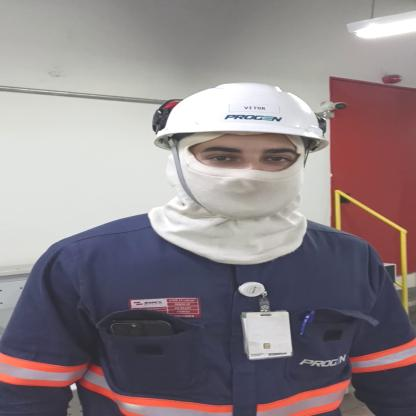Balaclava: (154, 136, 309, 268)
Capacete: (141, 82, 346, 147)
